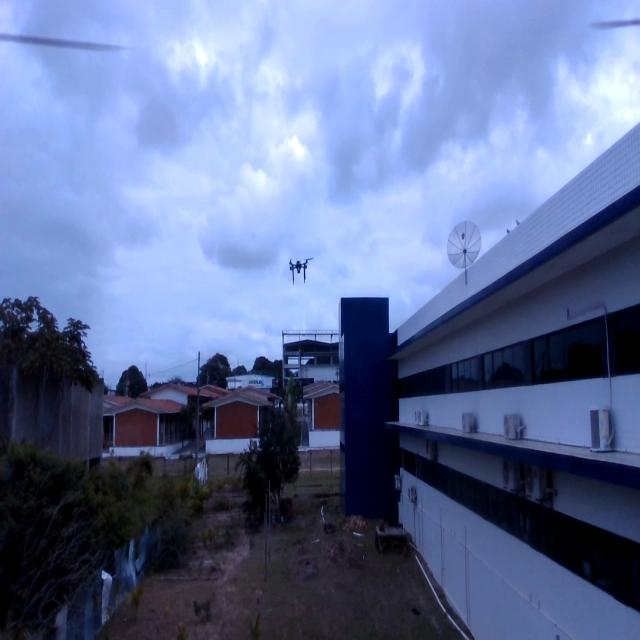-uav-: (278, 240, 324, 296)
